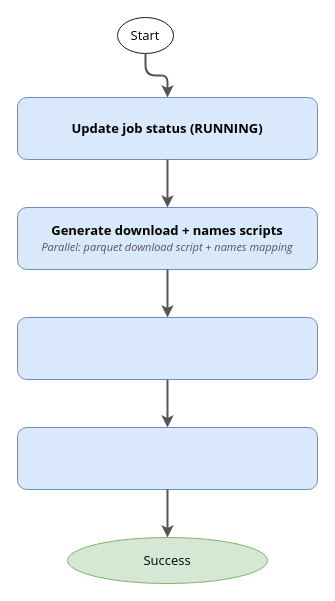
Image size: 335x601. Some labels were removed from this diagram. The shapes that lost their labels are listed below. From the top down, each one's centre as x and y in pixels, then its label:
the point at 167,348: Run MultiQC combinator ECS task: combine parquets → HTML + parquet
the point at 167,458: Update job status (terminal) SUCCEEDED or FAILED
